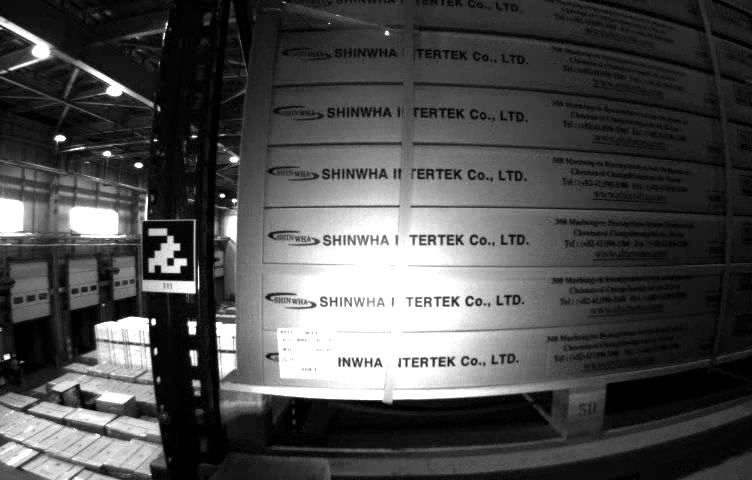True Barcode: (275, 327, 340, 382)
